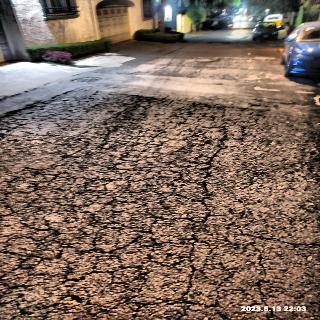alligator-crack: (127, 159, 236, 320), (0, 215, 136, 316), (1, 147, 132, 233), (186, 108, 246, 224)
crack: (5, 91, 96, 151)
